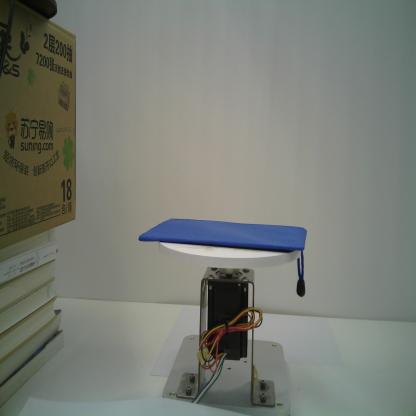Stationery: (138, 216, 308, 299)
